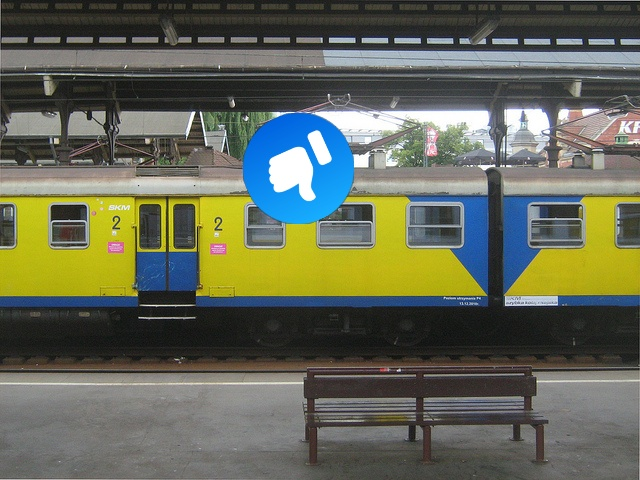like: (243, 113, 354, 224)
